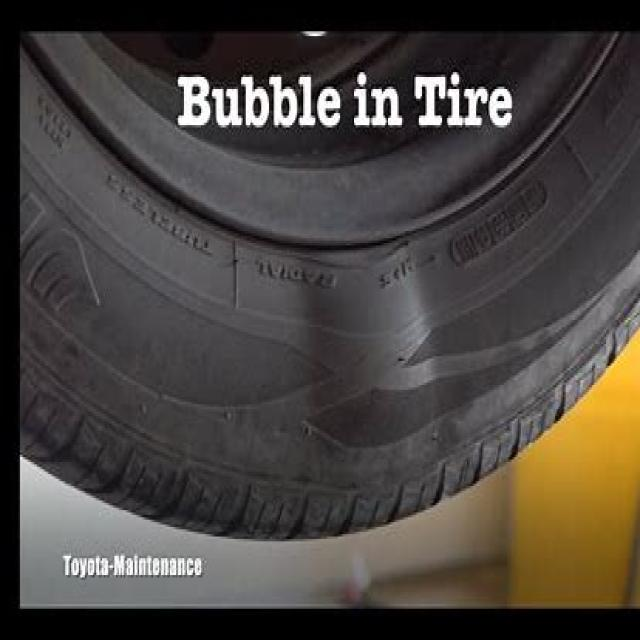Bulge: (393, 246, 467, 450)
